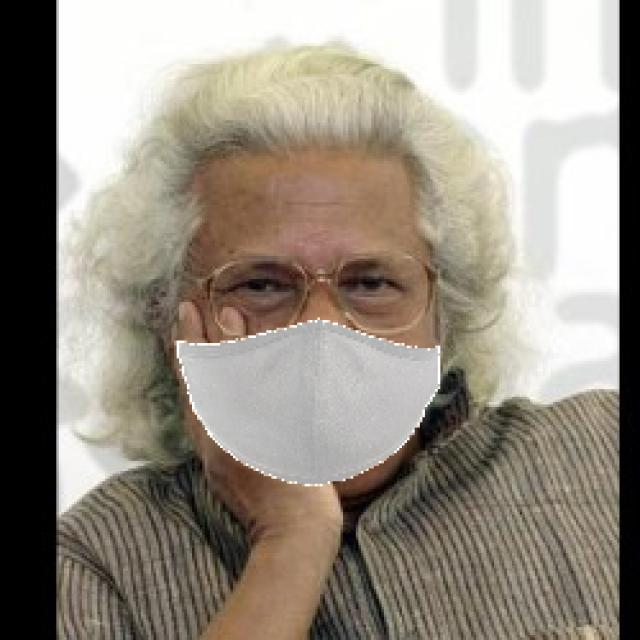mask: (166, 304, 456, 502)
